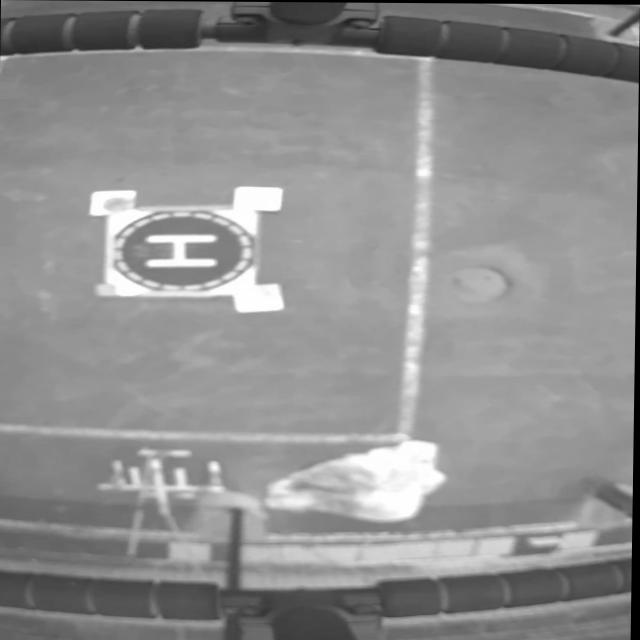Helipad: (146, 234, 215, 267)
